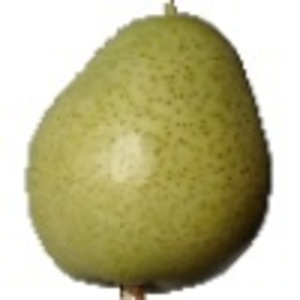pera: (24, 1, 273, 300)
